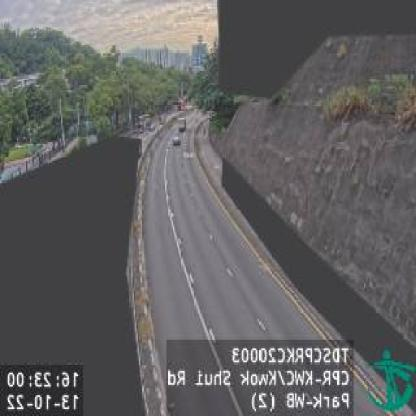Car: (172, 134, 180, 146)
